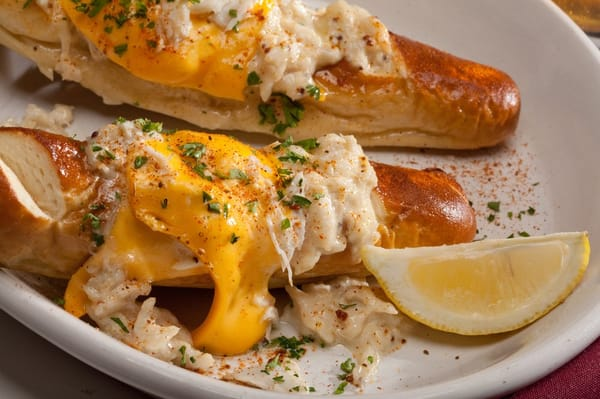salad: (359, 232, 591, 337)
sushi: (0, 43, 585, 396)
